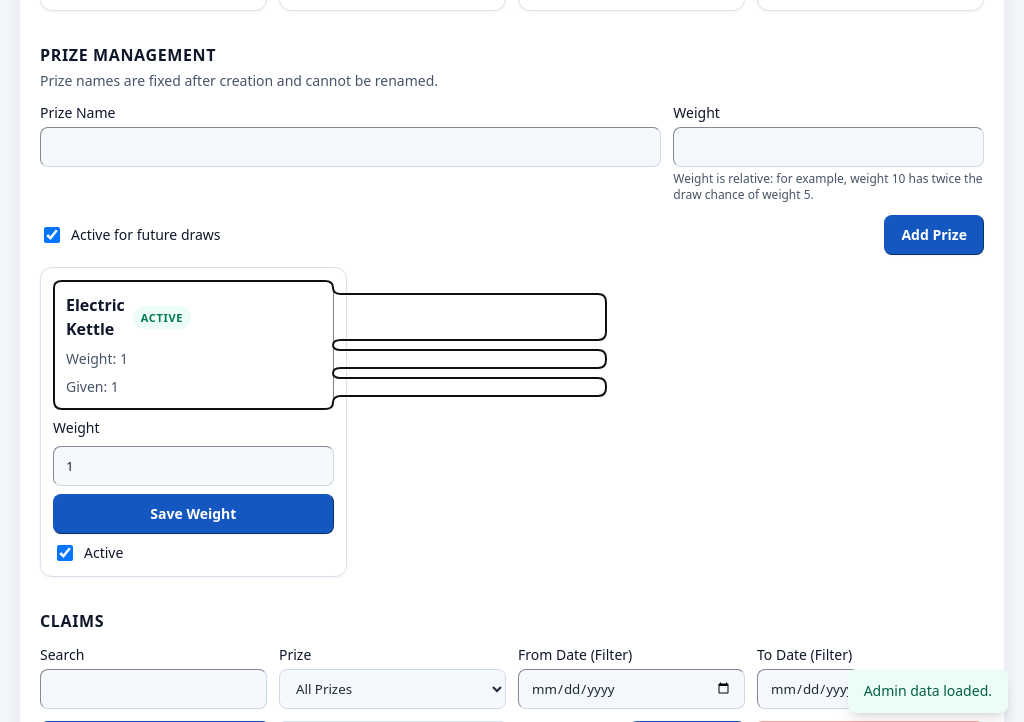
Test: admin operations page › supports keyboard card selection and preserves filter when toggling active state
(page scrolled)
Press Enter in the radio button with aria-label "Filter claims by Electric Kettle", box x1=53 y1=280 x2=334 y2=410
(page scrolled)
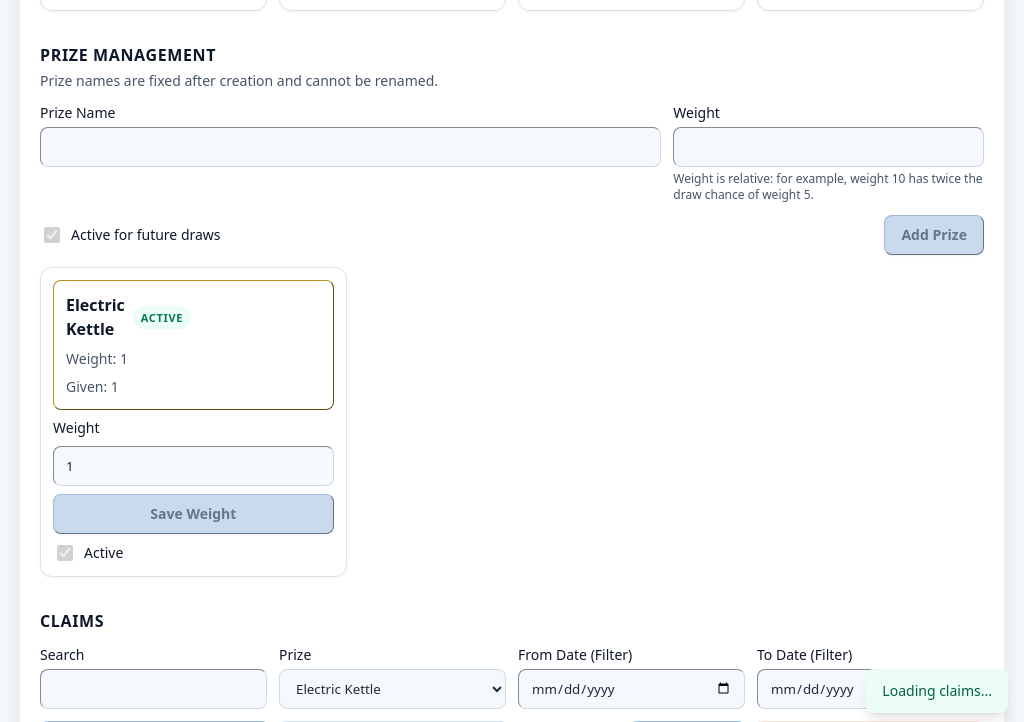
Result: the dropdown labelled "Prize" shows "Electric Kettle" at x1=279 y1=669 x2=506 y2=709
Click the checkbox labelled "Active" at point(65, 553), box x1=57 y1=545 x2=73 y2=561
(page scrolled)
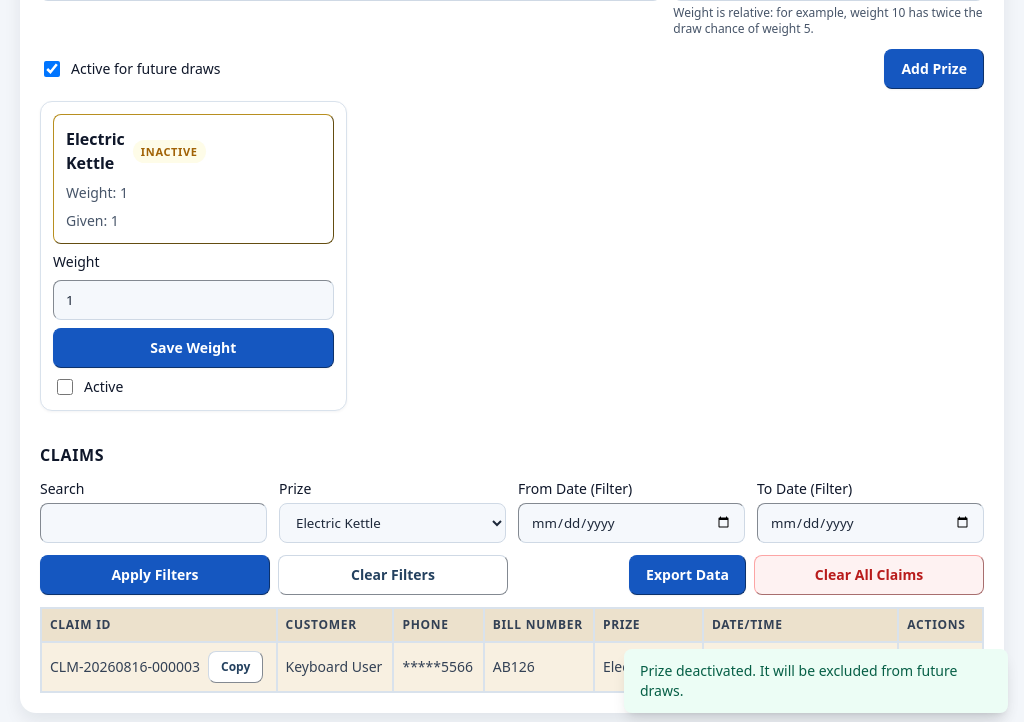
Result: the dropdown labelled "Prize" shows "Electric Kettle" at x1=279 y1=503 x2=506 y2=543
Result: the text "Keyboard User" is shown at x1=277 y1=642 x2=394 y2=692
